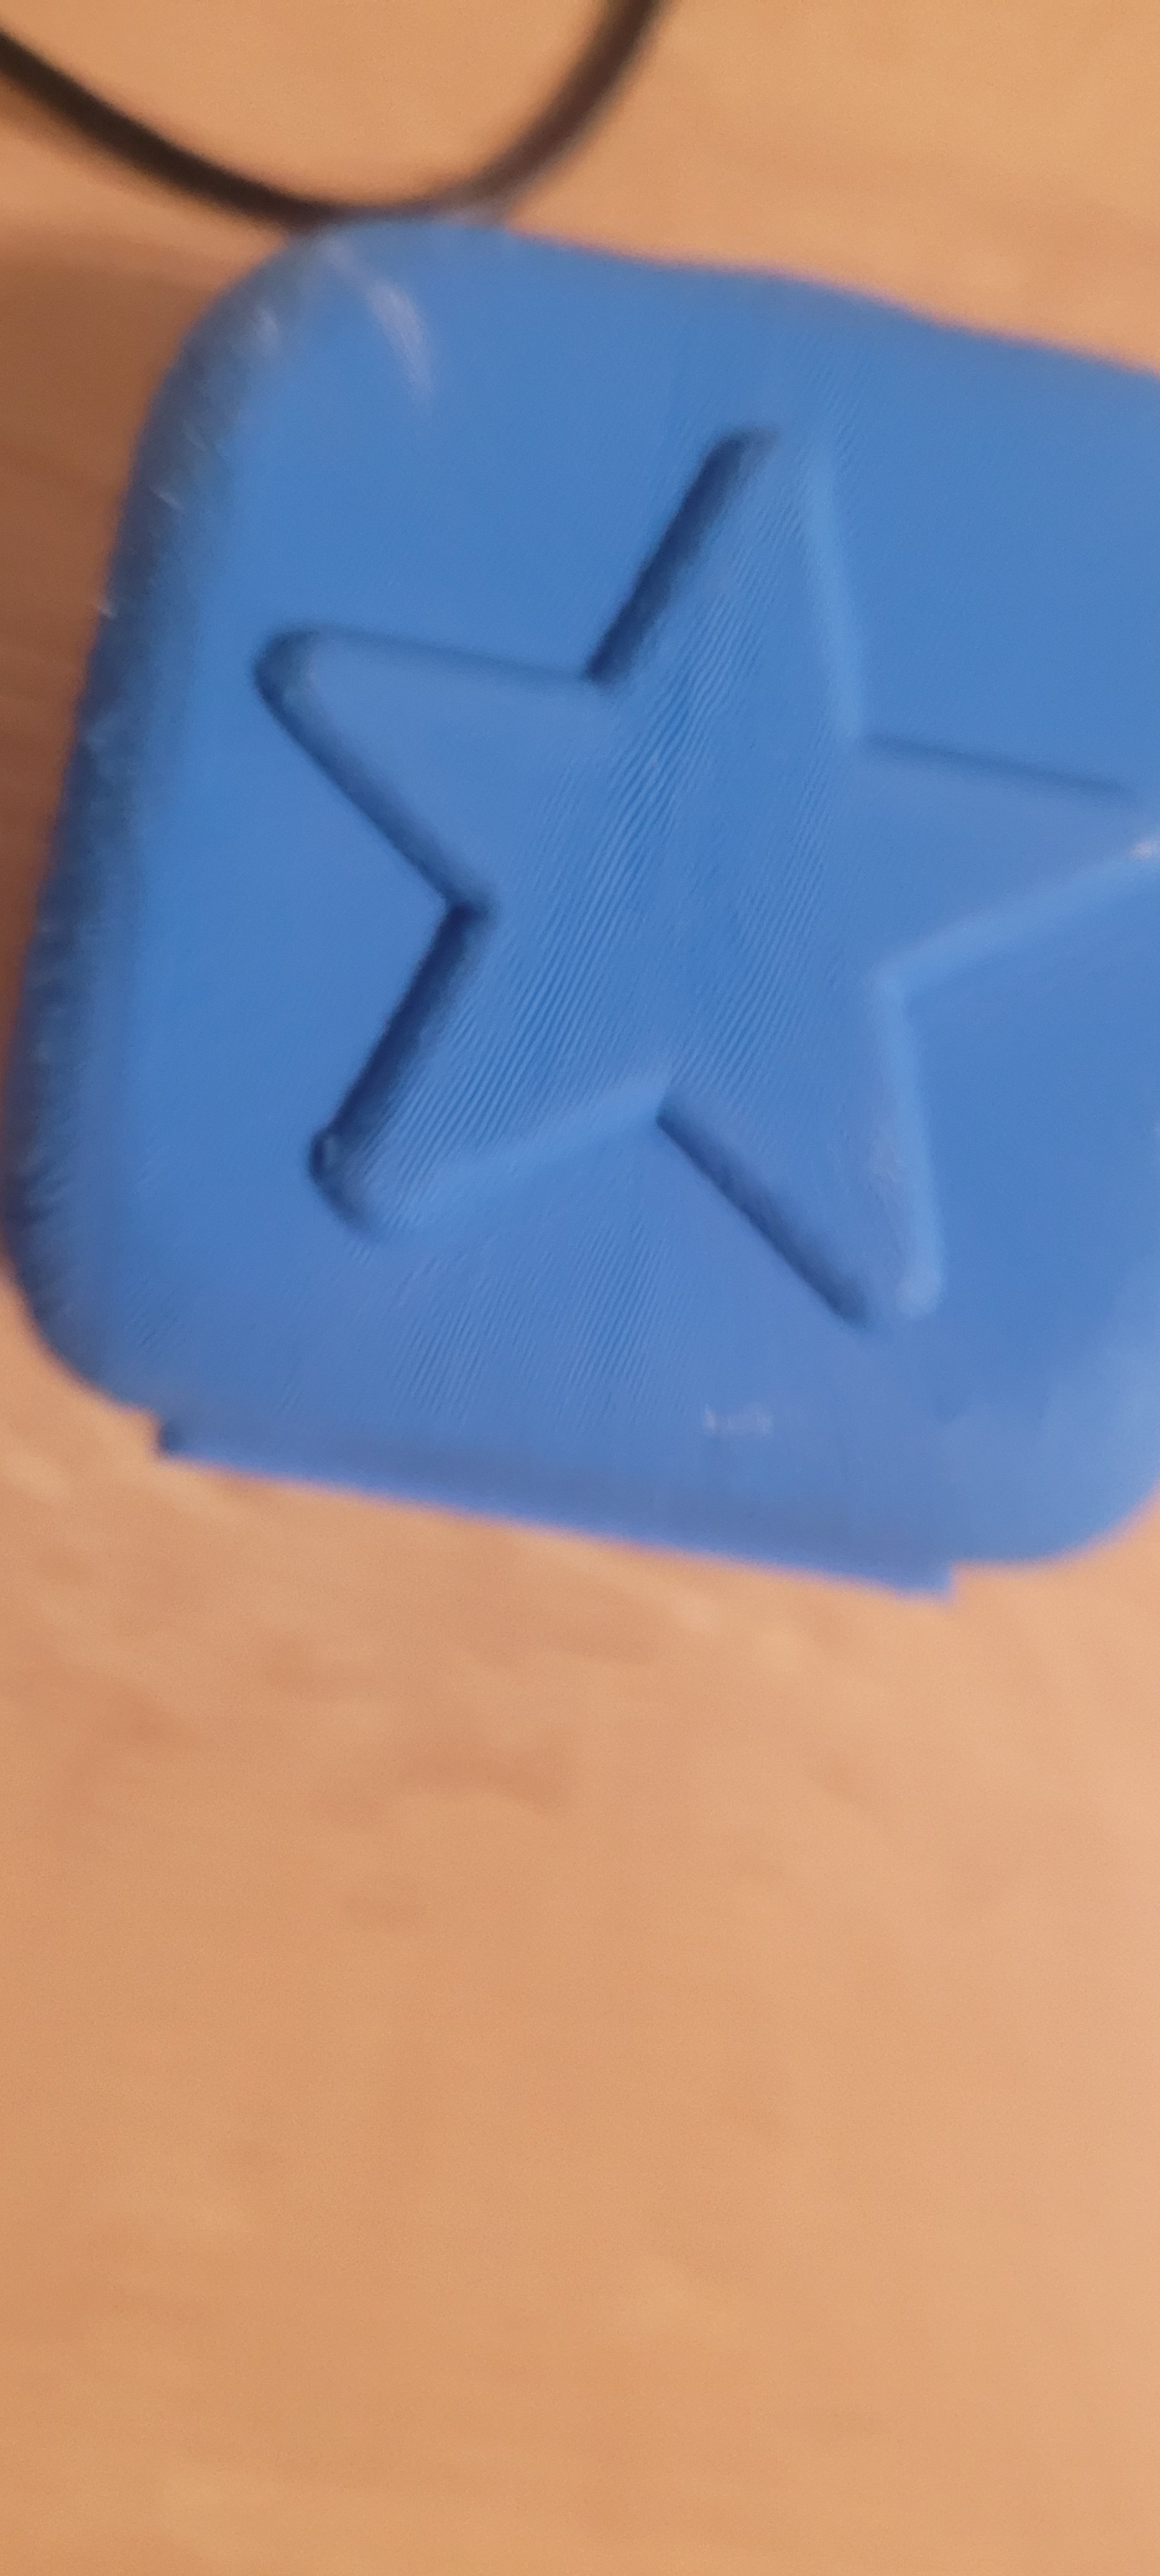Star: (255, 255, 1145, 1451)
